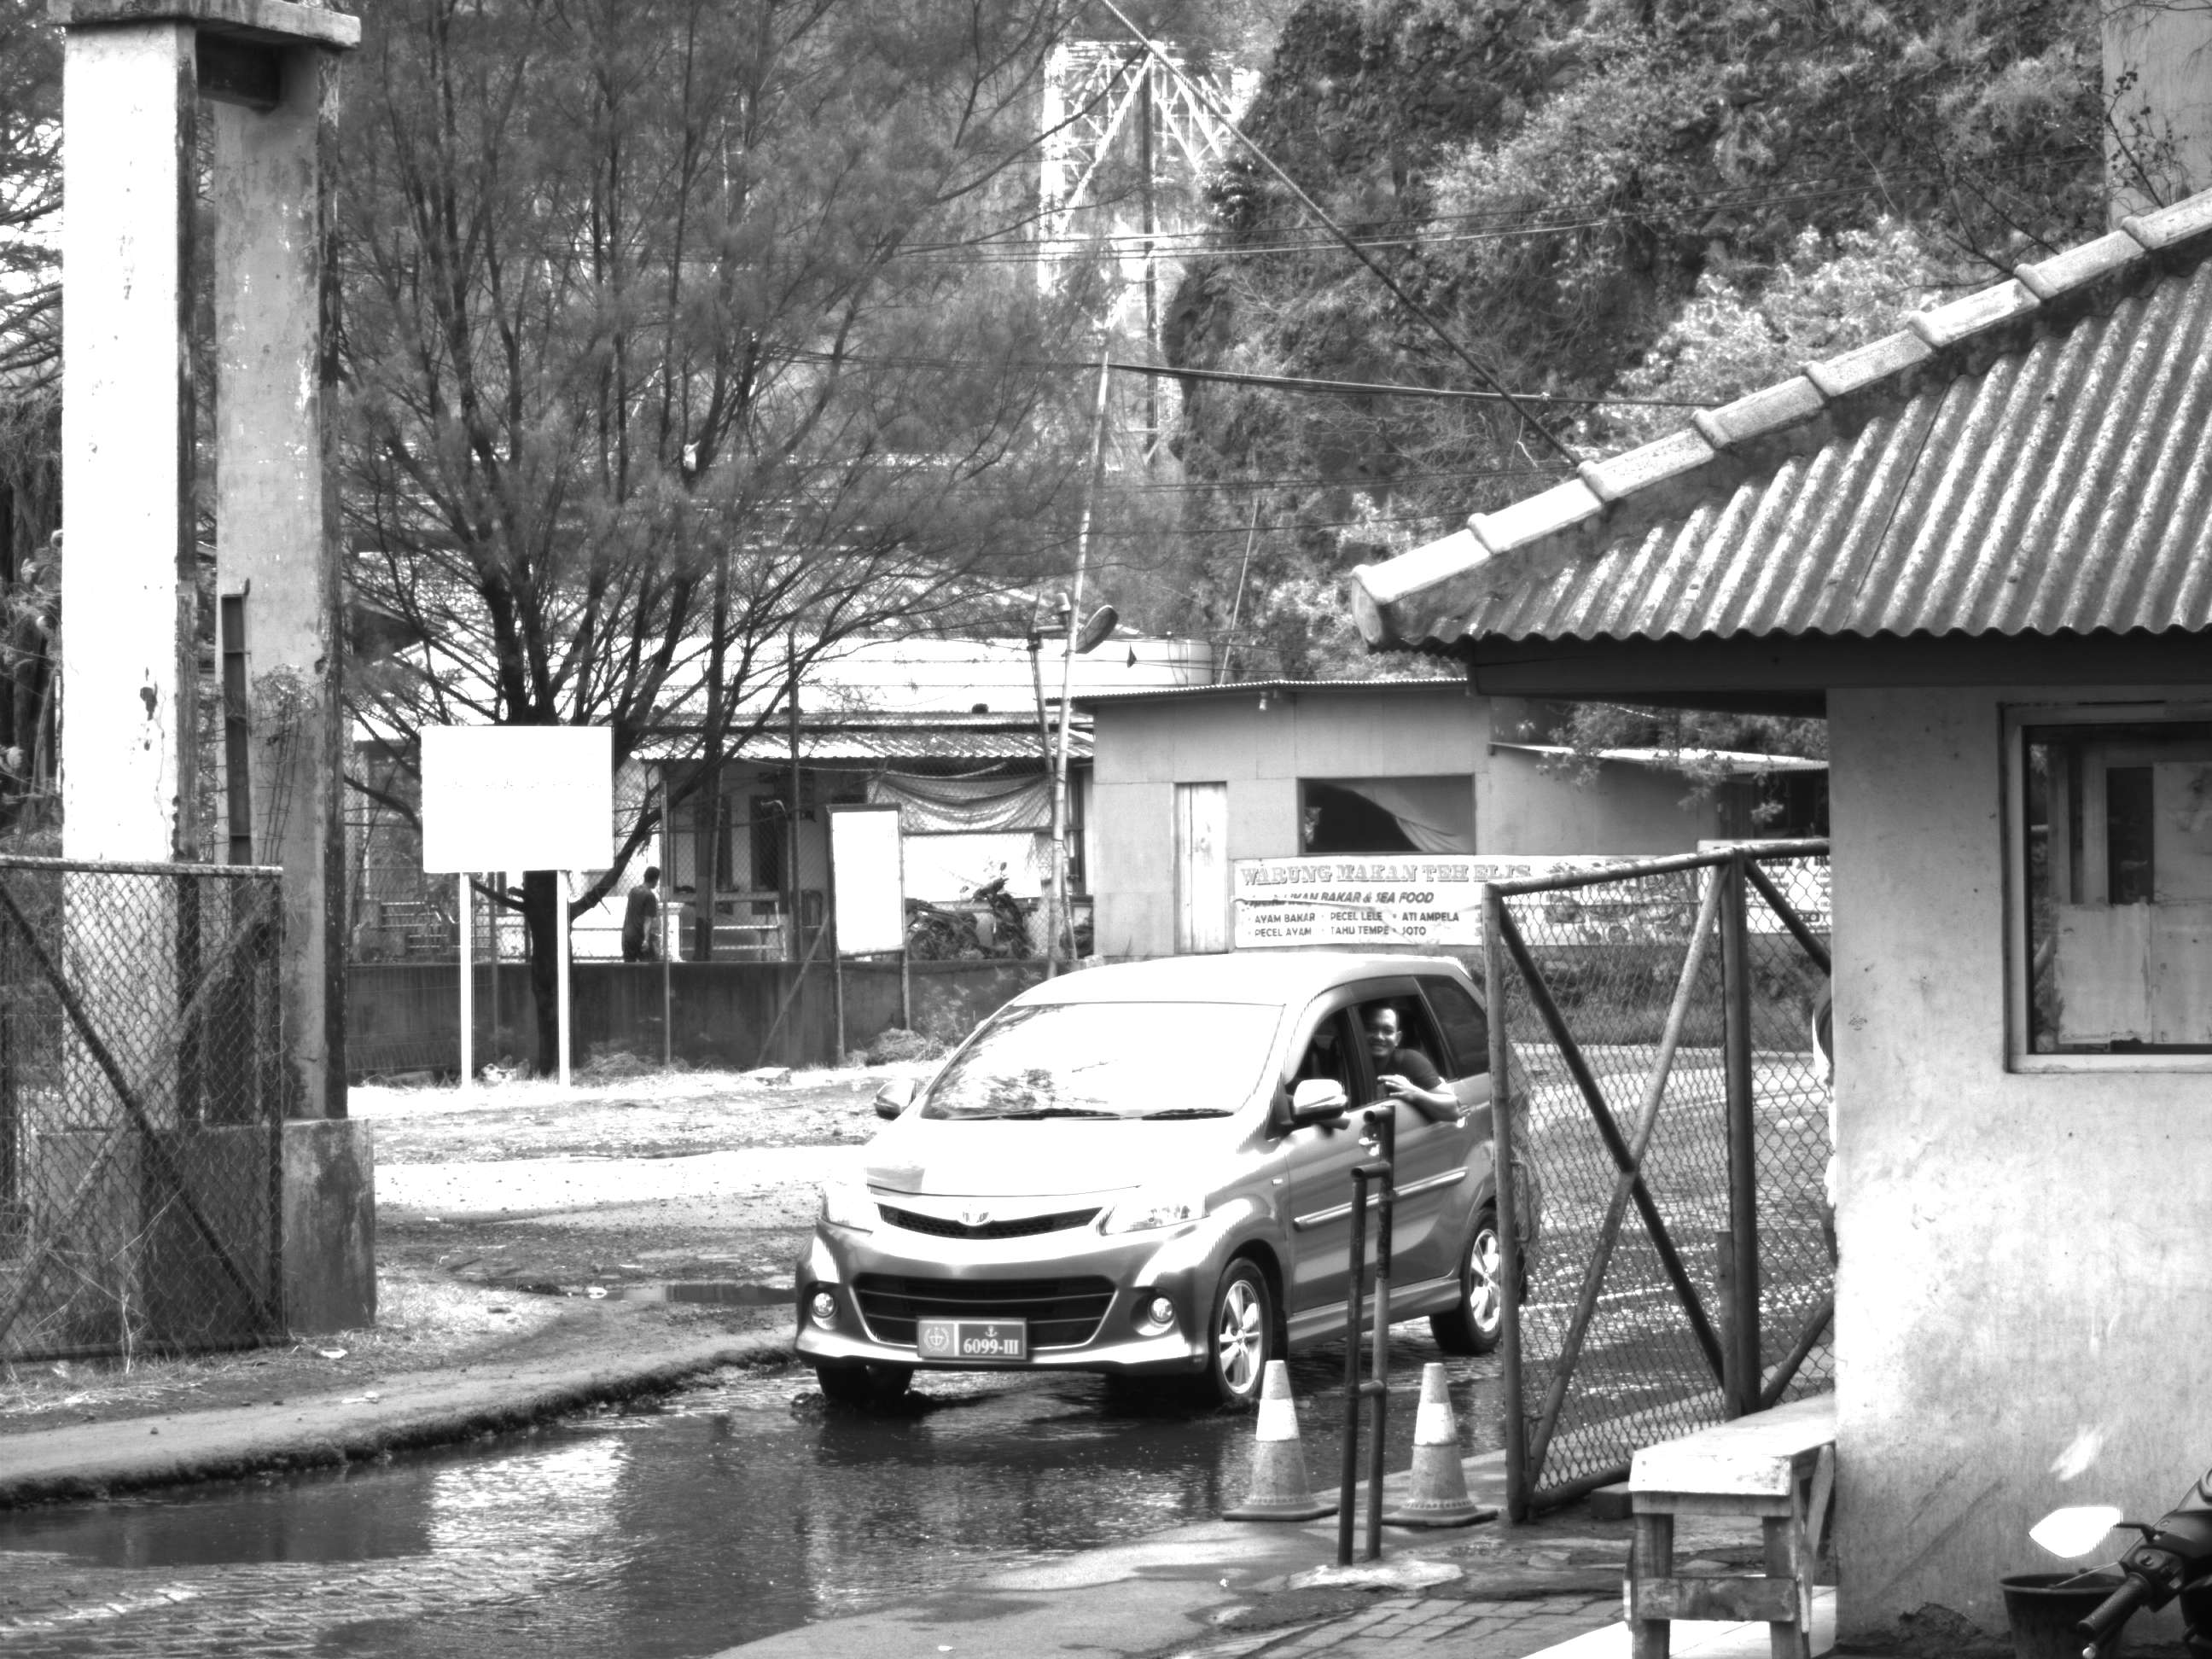day_small_front: (786, 947, 1329, 1439)
plate: (912, 1314, 1035, 1364)
